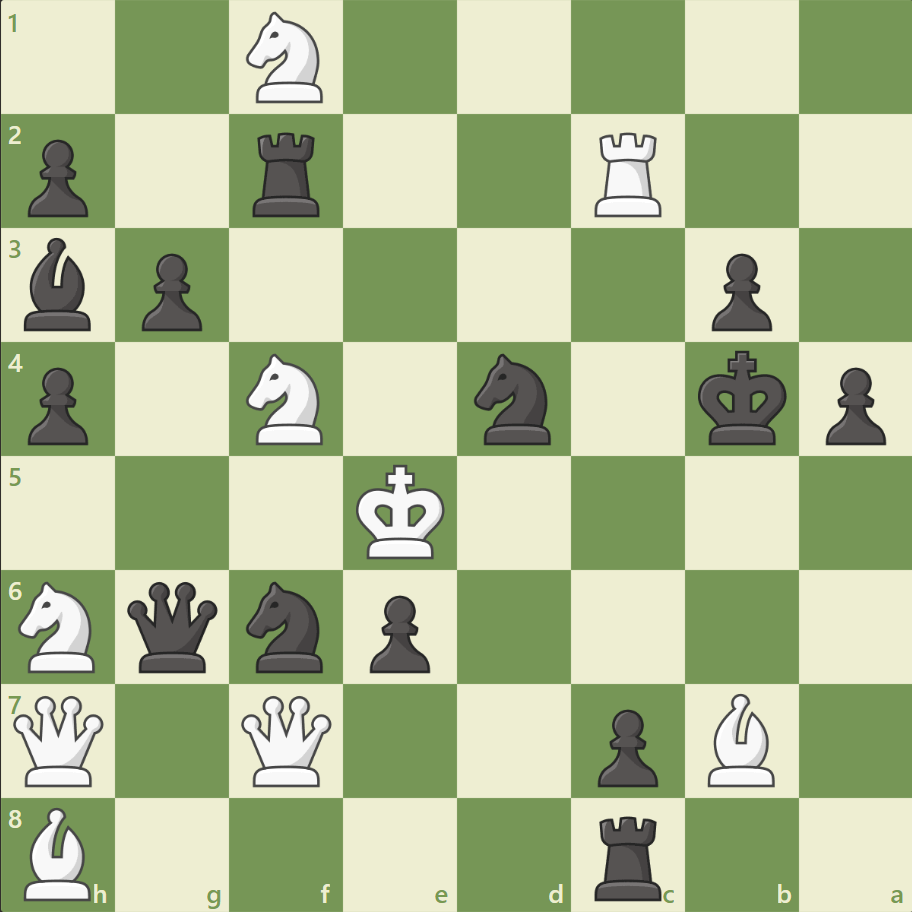B: (17, 801, 101, 904), (698, 687, 782, 790)
K: (351, 458, 451, 566)
N: (238, 7, 335, 110), (11, 575, 108, 677), (238, 348, 335, 450)
Q: (237, 690, 336, 789), (10, 690, 109, 789)
R: (587, 125, 670, 222)
b: (17, 233, 101, 336)
k: (692, 344, 792, 452)
n: (238, 575, 335, 677), (465, 348, 562, 450)
p: (20, 359, 95, 450), (701, 246, 776, 337), (133, 246, 208, 337), (20, 132, 95, 223), (588, 700, 662, 791), (361, 586, 435, 677), (815, 359, 889, 450)
q: (124, 576, 223, 676)
r: (587, 806, 670, 904), (246, 125, 329, 222)
